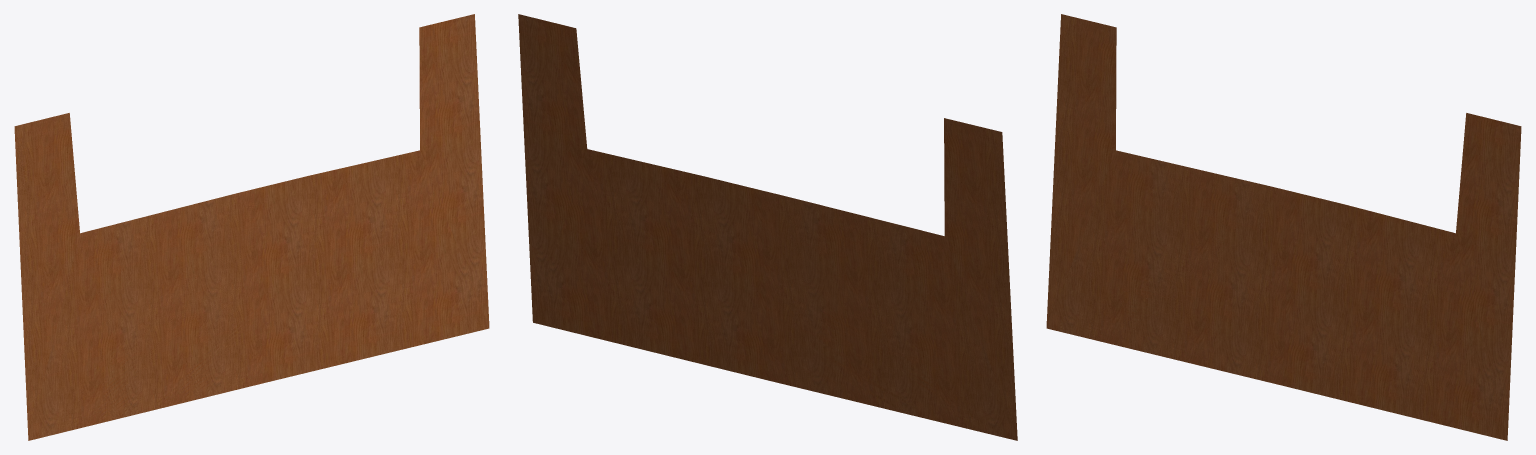
Rendered from original-5.obj.
3 renders of one model, left to right at view 1: azimuth 30°, elevation 25°; view 2: azimuth 150°, elevation 25°; view 3: azimuth 330°, elevation 25°, orthographic. The views are drawn at different scales.
Parts seen in each view (by area): view 1: #ID1201; view 2: #ID1201; view 3: #ID1201.
Boxes of the visible parts, bbox=[...] form: #ID1201: bbox=[14, 14, 489, 440]; #ID1201: bbox=[518, 14, 1017, 440]; #ID1201: bbox=[1046, 14, 1521, 440].
Bounding box in the file's own units: 0.7189 × 0.4532 × 0.0389.
